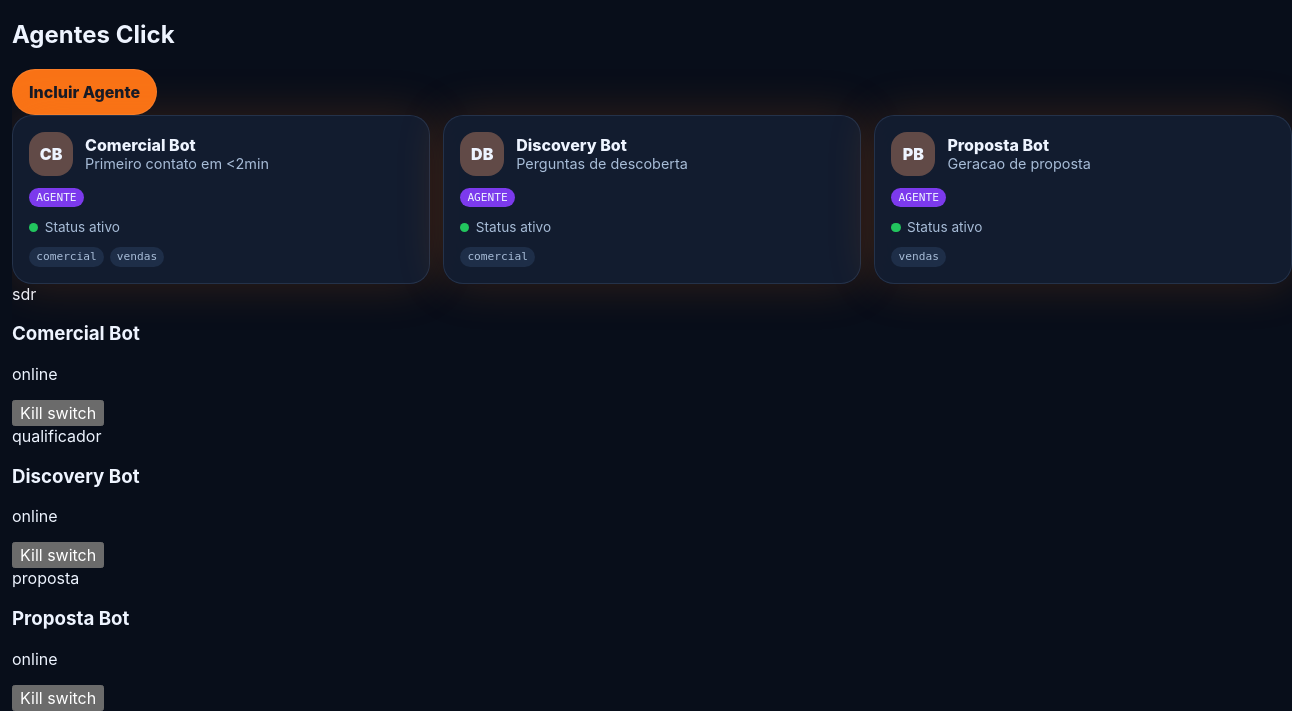
Scenario: Click components › wires agent kill switch controls for admins
Click the button "Kill switch" below "sdr" at (58, 413), box [12, 400, 104, 426]
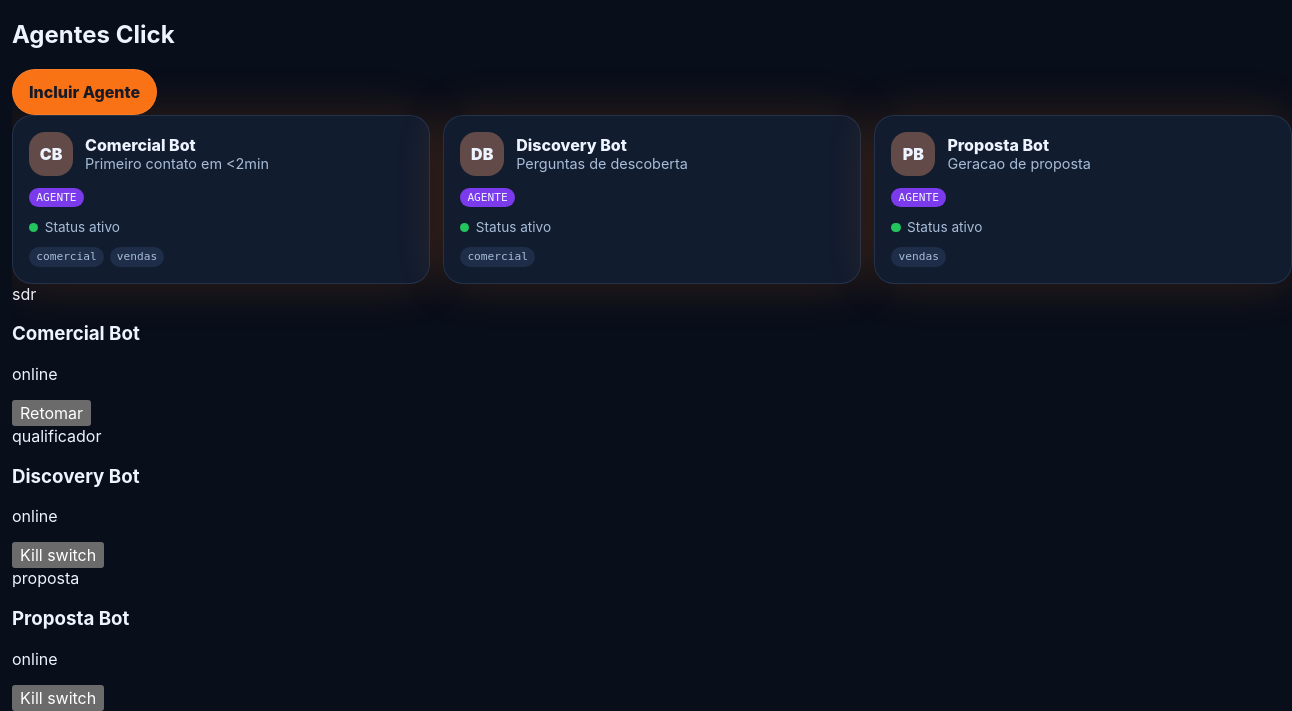
Expected: the button named "Kill switch" reads "Retomar", [12, 400, 91, 426]
